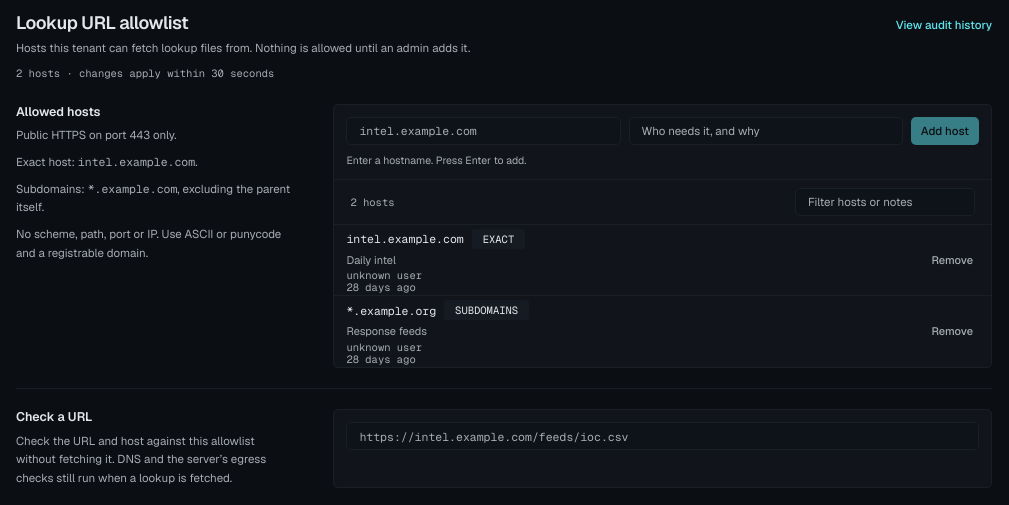
Test case: filters hosts and notes, with a separate no-match state
This screenshot has width=1009, height=505.
Check: the text titled "intel.example.com" below "Enter a hostname. Press Enter to add." is shown, box [346, 231, 464, 246]
Type "response" into the field labelled "Filter hosts" at (885, 202), box [795, 188, 975, 216]
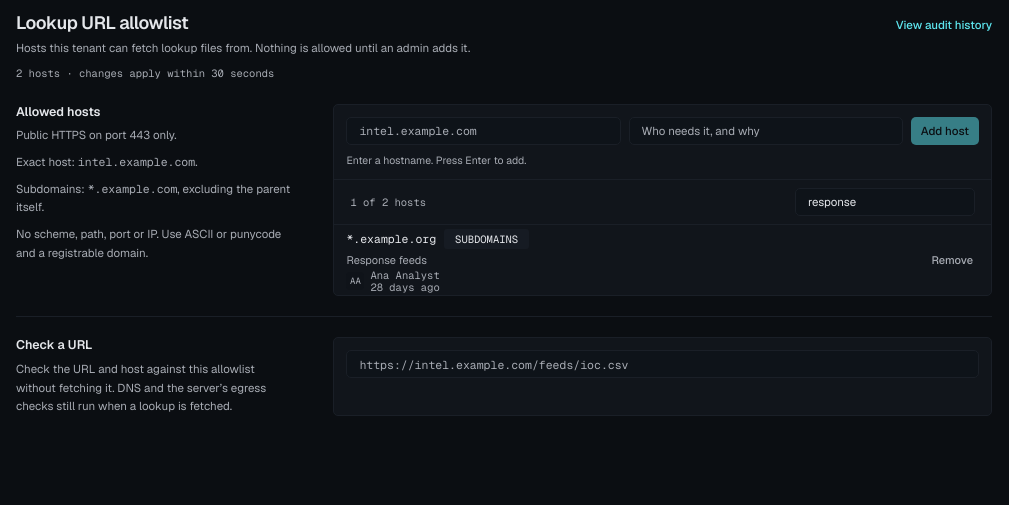
Check: the text "SUBDOMAINS" is shown, box [444, 229, 529, 249]
Check: the text "1 of 2 hosts" is shown, box [350, 195, 426, 209]
Replace the text in the field named "Filter hosts" with "absent" at (885, 202), box [795, 188, 975, 216]
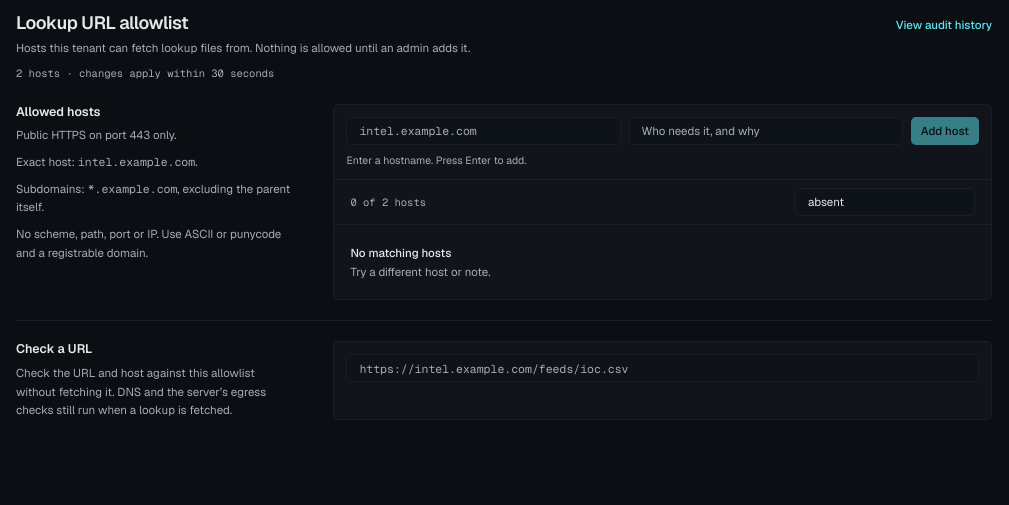
Check: the text "No matching hosts" is shown, box [350, 245, 451, 260]
